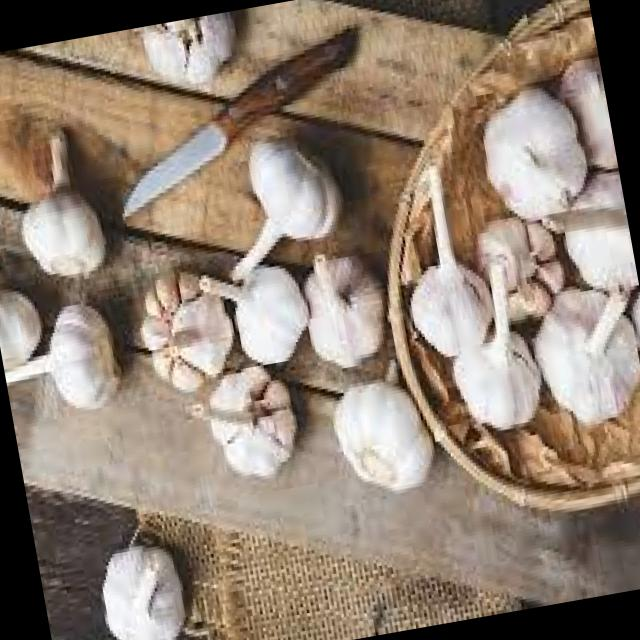Garlic: (0, 103, 128, 296), (107, 241, 245, 403), (190, 339, 318, 508), (458, 174, 582, 348), (458, 71, 594, 224), (324, 364, 452, 526), (519, 260, 640, 431), (233, 102, 356, 258), (194, 244, 328, 375), (0, 294, 135, 423), (279, 231, 388, 384), (84, 518, 219, 640), (126, 8, 267, 116), (438, 306, 549, 436), (402, 226, 504, 366), (541, 160, 638, 294), (544, 36, 620, 186), (0, 203, 52, 388)
